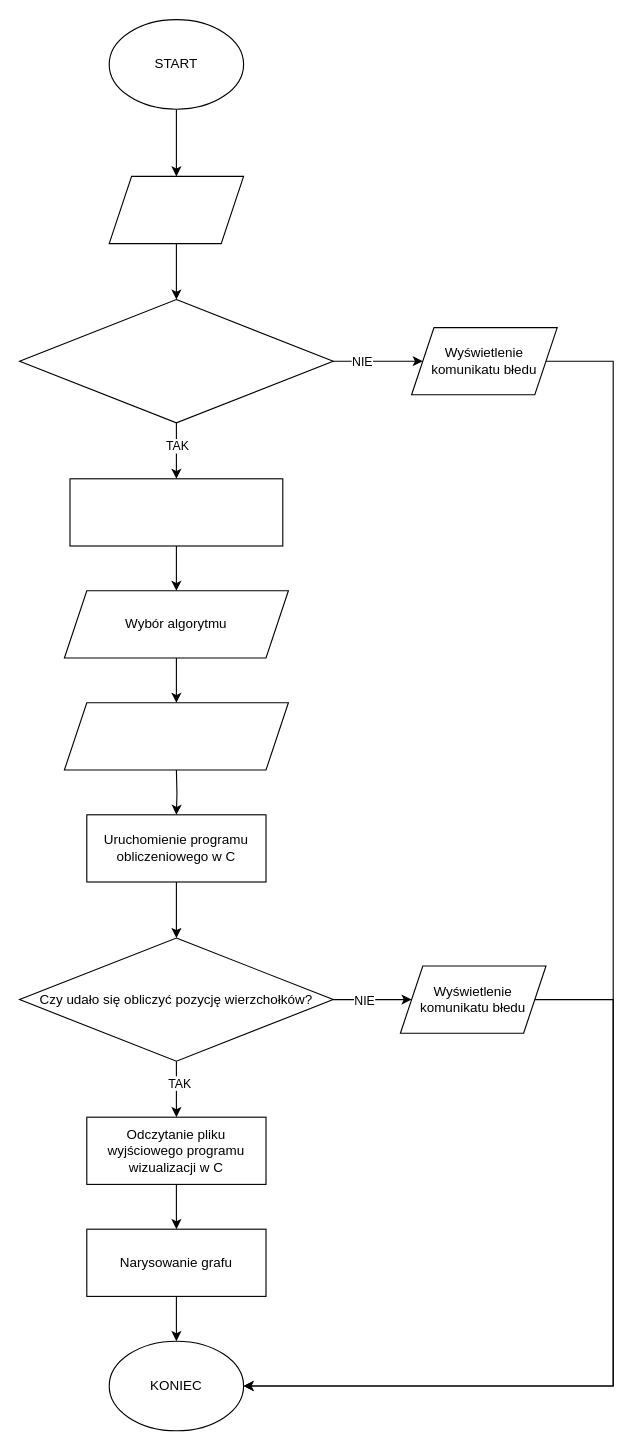
Some shapes in this 642 by 1450 pixel diagram are drawn without their labels. The shapes that lost their labels are listed below. From the top down, each one's box as (x1, y1, x2, y2) in pixels, then its label:
(108, 175, 244, 244): Użytkownik wybiera plik wejściowy
(18, 298, 333, 423): Czy udało się odczytać plik wejściowy
(69, 478, 283, 546): Odczytanie pliku wejściowego. Stworzenie listy krawędzi.
(63, 702, 288, 770): Kliknięcie przycisku "Rysuj"
